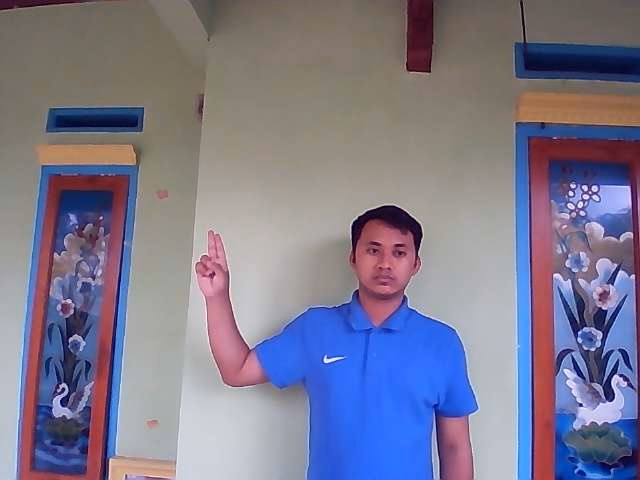U: (194, 230, 232, 297)
